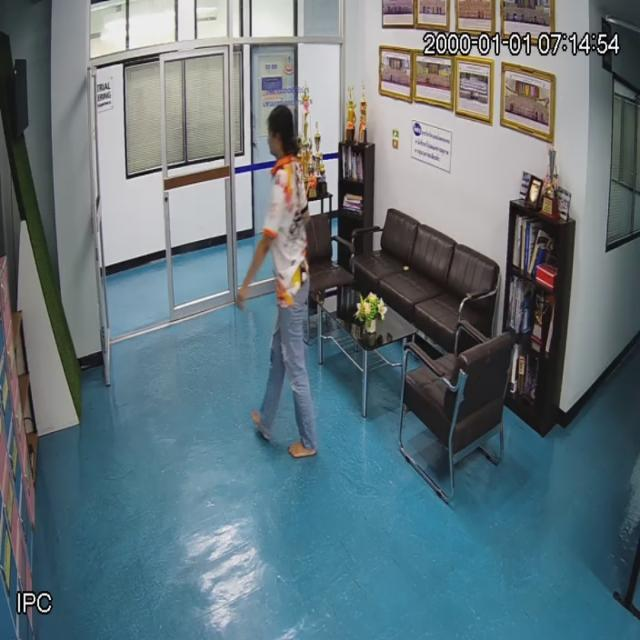normal: (255, 105, 316, 457)
